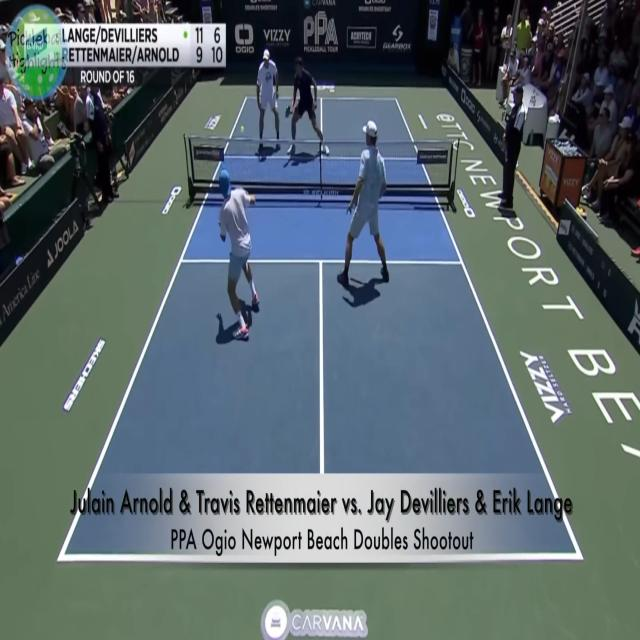ball: (240, 124, 246, 134)
